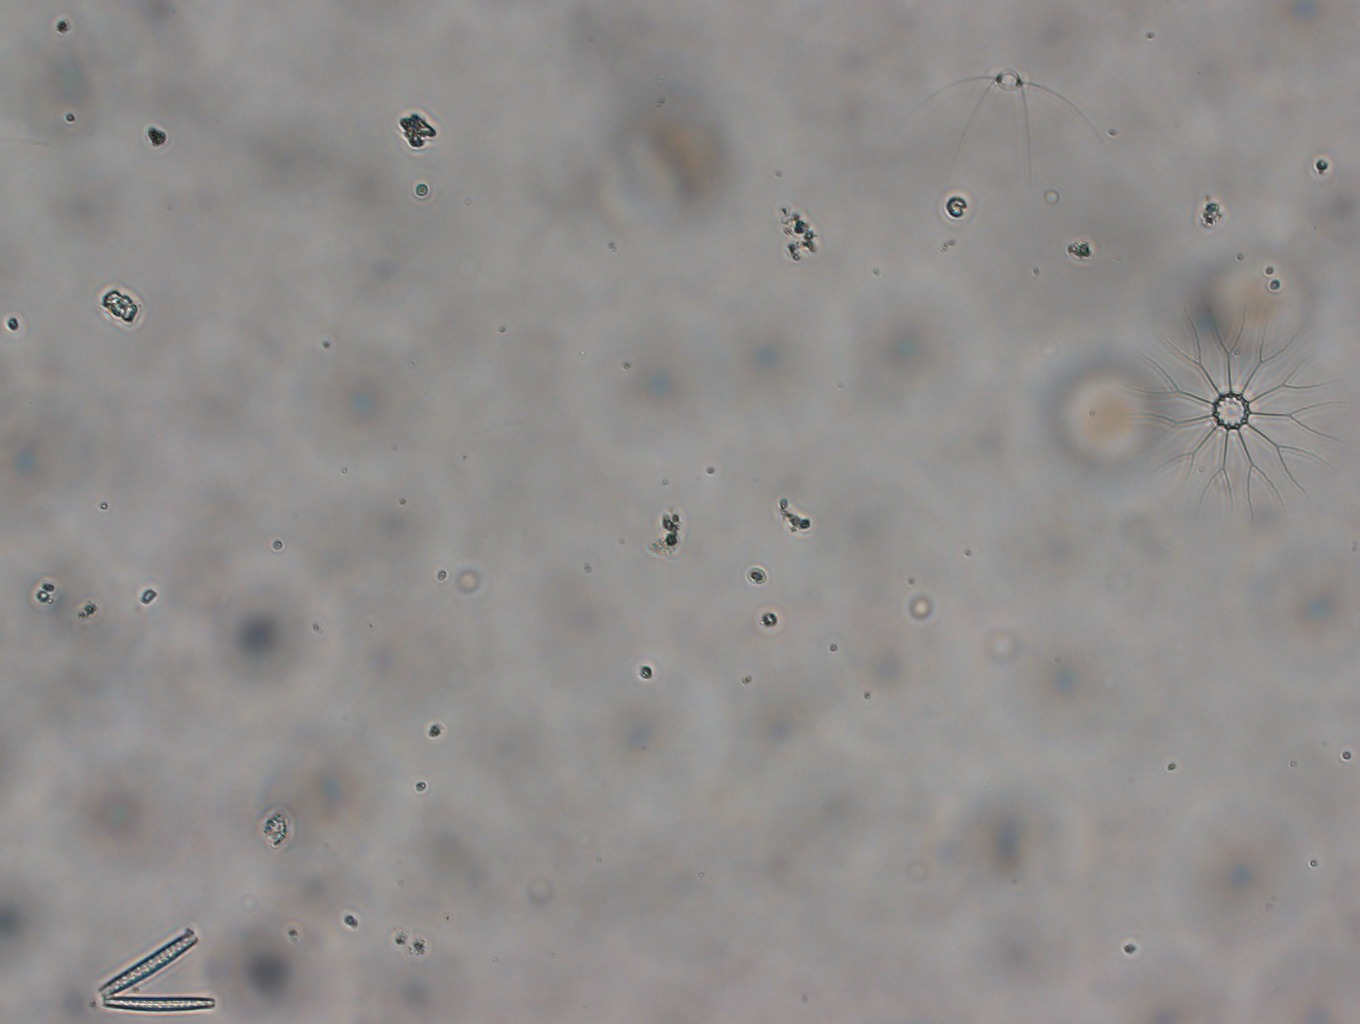bacteriastrum: (1123, 300, 1348, 522)
chaetoceros: (912, 65, 1100, 181)
thalassionema nitzschioides: (89, 925, 226, 1018)
